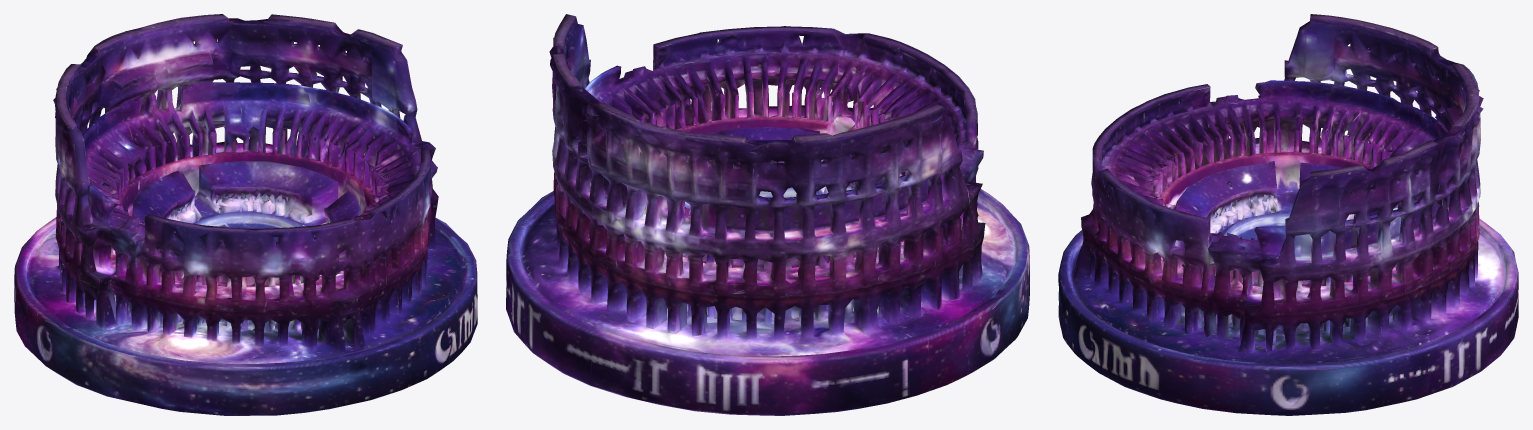
The model's file is Colosseum_celestial.glb.
3 renders of one model, left to right at view 1: azimuth 30°, elevation 25°; view 2: azimuth 150°, elevation 25°; view 3: azimuth 270°, elevation 25°, orthographic. The views are drawn at different scales.
Parts seen in each view (by area): view 1: Mesh_0; view 2: Mesh_0; view 3: Mesh_0.
Part boxes in pixels (x1,y1,x2,y2): Mesh_0: (14,14,477,415); Mesh_0: (506,14,1029,415); Mesh_0: (1058,14,1518,415).
Size of the model in its own units: 1.91 by 1.03 by 1.91.
Materials: 1 (1 with a texture image).
